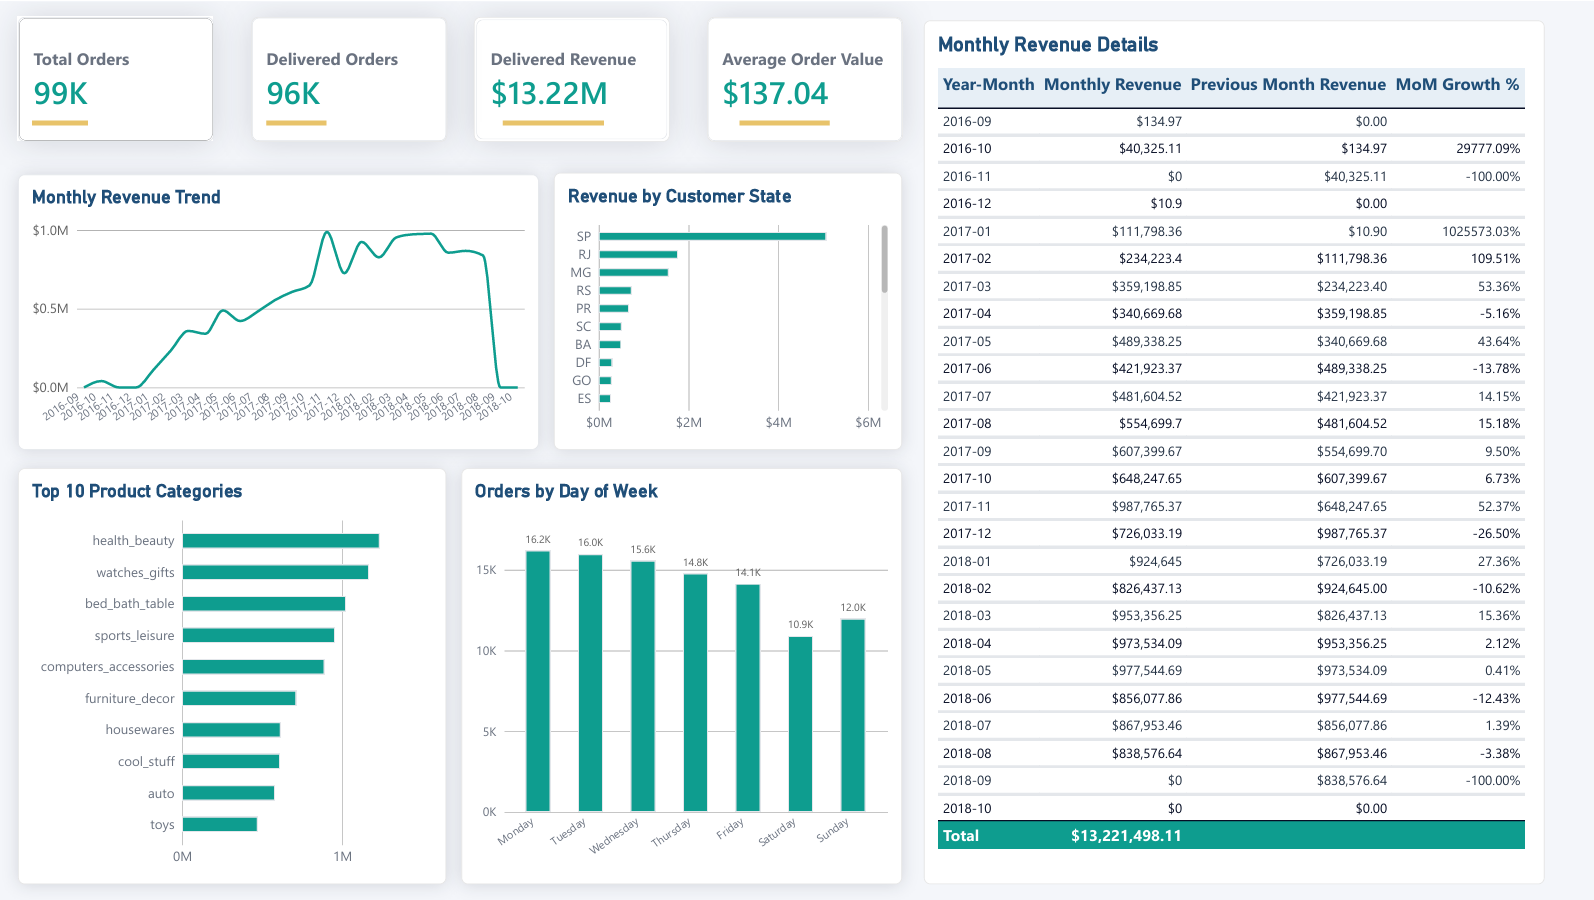

This screenshot's page, from the dashboard's own definition file:
{"tool":"powerbi","page":{"name":"Executive Overview","canvas":[1920,1080],"ordinal":0},"visuals":[{"type":"cardVisual","title":"Total Orders","fields":{"Data":["analytics order_sales.Total Orders"]},"box":[24.5,18.4,235,150],"z":0},{"type":"cardVisual","title":"Total Orders","fields":{"Data":["analytics order_sales.Delivered Revenue"]},"box":[571.4,18.4,235,150],"z":1000},{"type":"cardVisual","title":"Total Orders","fields":{"Data":["analytics order_sales.Average Order Value"]},"box":[851,18.4,235,150],"z":2000},{"type":"cardVisual","title":"Total Orders","fields":{"Data":["analytics order_sales.Delivered Orders"]},"box":[304.1,18.4,235,150],"z":3000},{"type":"tableEx","title":"Monthly Revenue Details","fields":{"Values":["DimDate.Year-Month","analytics order_sales.Monthly Revenue","analytics order_sales.Previous Month Revenue","analytics order_sales.MoM Growth %"]},"box":[1110.9,21.8,745.5,1038.2],"z":4000},{"type":"lineChart","title":"Monthly Revenue Trend","fields":{"Category":["DimDate.Year-Month"],"Y":["analytics order_sales.Monthly Revenue"]},"box":[23.6,207.3,625.5,330.9],"z":5000},{"type":"clusteredBarChart","title":"Revenue by Customer State","fields":{"Category":["staging customers.customer_state"],"Y":["analytics order_sales.Delivered Revenue"]},"box":[667.3,205.5,418.2,332.7],"z":6000},{"type":"clusteredBarChart","title":"Top 10 Product Categories","fields":{"Category":["staging category_translation.product_category_name_english"],"Y":["analytics order_sales.Delivered Product Revenue"]},"box":[23.8,560,514.6,500.2],"z":7000},{"type":"clusteredColumnChart","title":"Orders by Day of Week","fields":{"Category":["DimDate.Day Name"],"Y":["analytics order_sales.Total Orders"]},"box":[556.2,560,528.8,500],"z":8000},{"type":"shape","box":[889.8,122.4,108.2,46.9],"z":9000},{"type":"shape","box":[606.1,122.4,120.4,46.9],"z":10000},{"type":"shape","box":[40.8,122.4,67.3,46.9],"z":11000},{"type":"shape","box":[322.4,122.4,71.4,46.9],"z":12000}]}

Visuals, with their boxes in screenshot pixels (x1, y1, x2, y2), scaled from the page's 1920x1080 canvas onto the 1594x900 screenshot:
"Total Orders" cardVisual: [20,15,215,140]
"Total Orders" cardVisual: [474,15,669,140]
"Total Orders" cardVisual: [707,15,902,140]
"Total Orders" cardVisual: [252,15,448,140]
"Monthly Revenue Details" tableEx: [922,18,1541,883]
"Monthly Revenue Trend" lineChart: [20,173,539,449]
"Revenue by Customer State" clusteredBarChart: [554,171,901,449]
"Top 10 Product Categories" clusteredBarChart: [20,467,447,884]
"Orders by Day of Week" clusteredColumnChart: [462,467,901,883]
shape: [739,102,829,141]
shape: [503,102,603,141]
shape: [34,102,90,141]
shape: [268,102,327,141]
